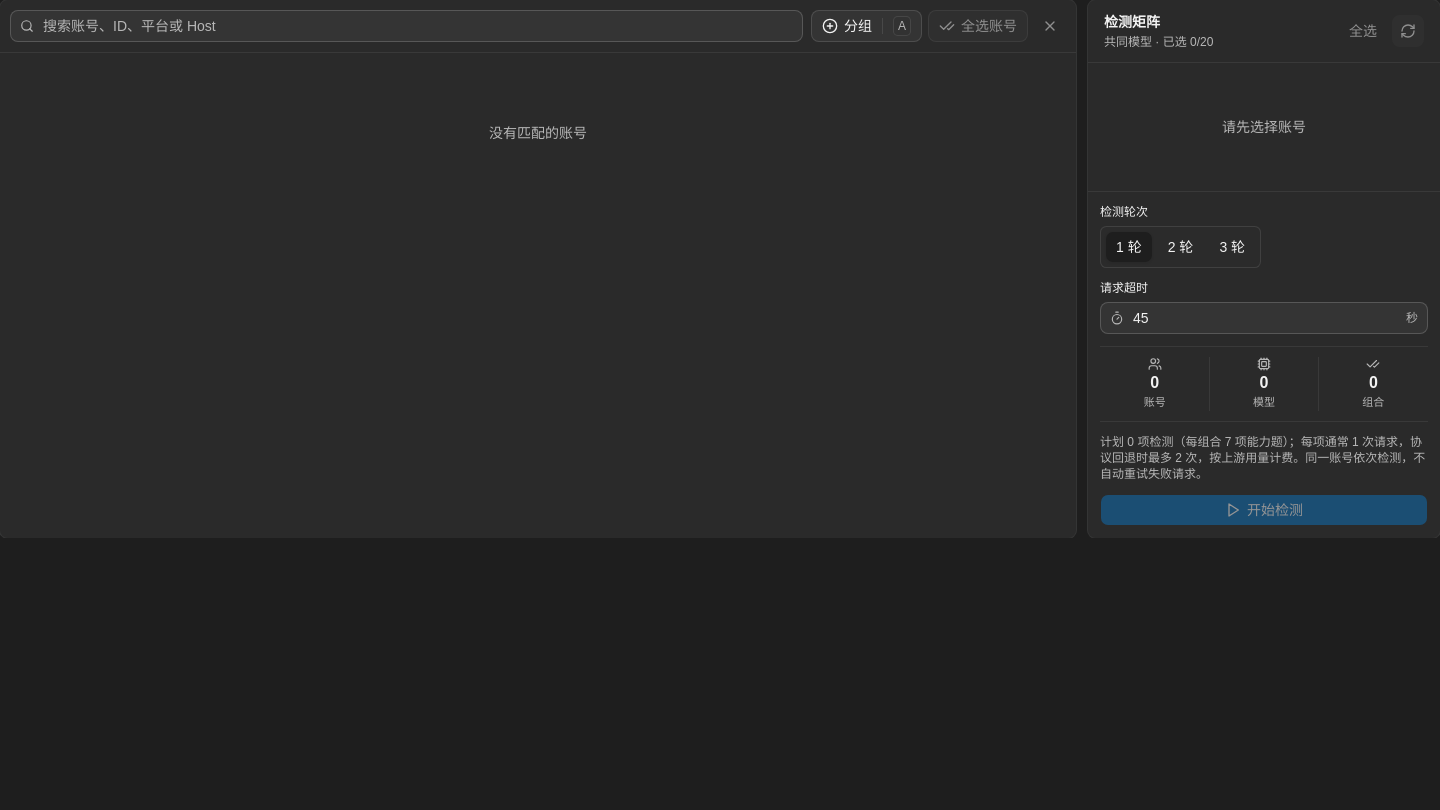
Test: 常规模型检测的分组筛选按名称字典排序且不补入未登记项
Click the button with aria-label "分组筛选": (866, 26) [811,10,922,42]
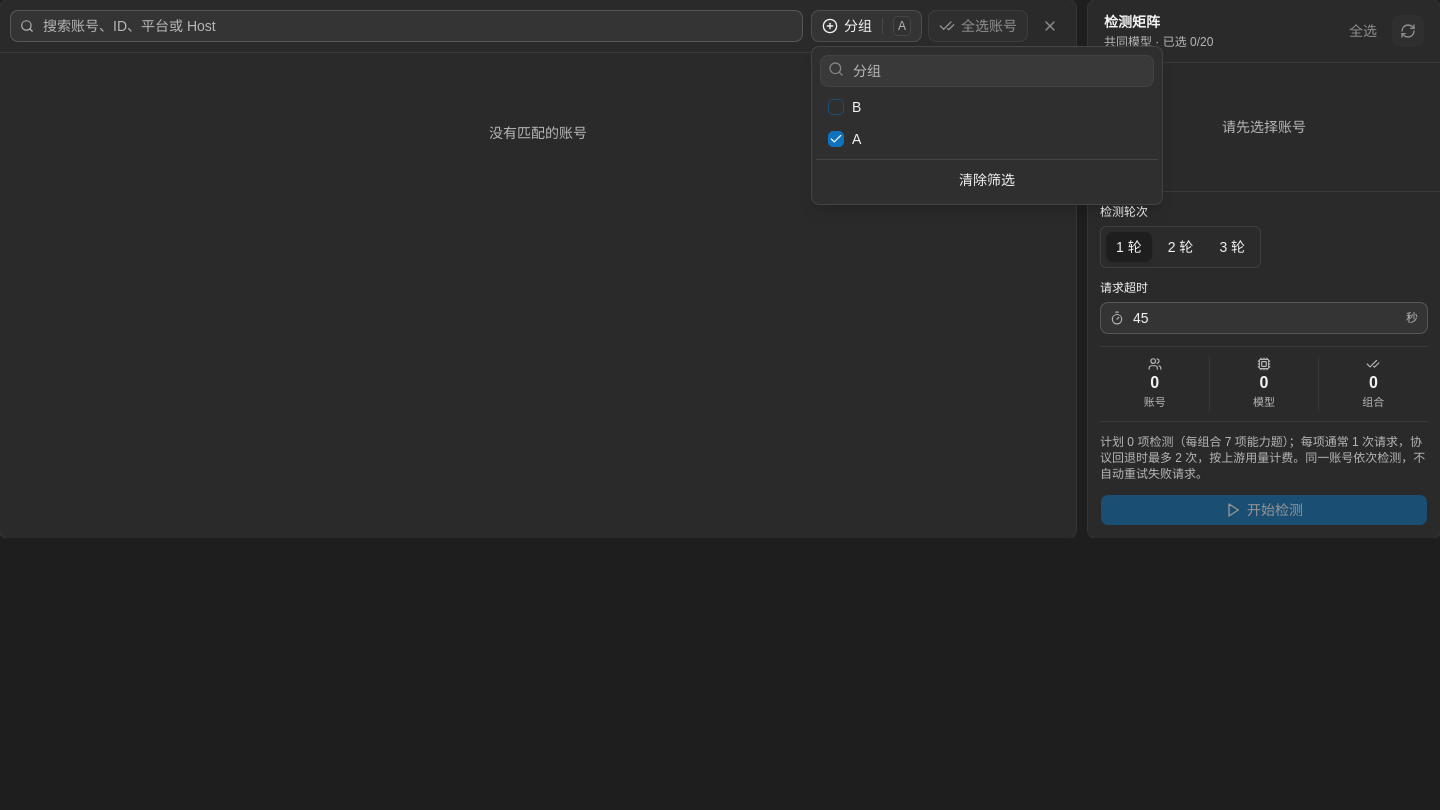
Expected: the options read "B", "A", in this order, [820,91,1154,123]; [820,123,1154,155]
